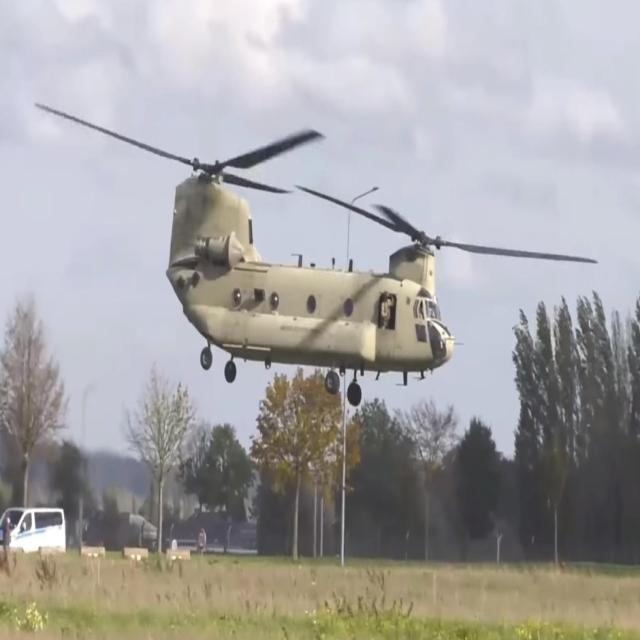Helicopter: (150, 126, 462, 400)
